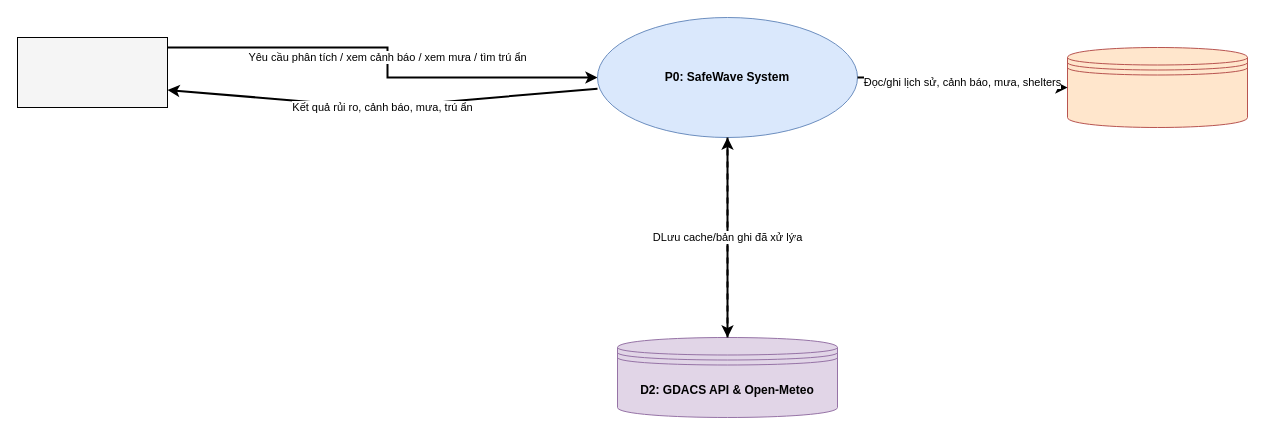
Image size: 1265x435. Some labels were removed from this diagram. Each missing label, with the centre of its shape:
D1: SQLite DB: point (1157, 87)
User: point (92, 72)
